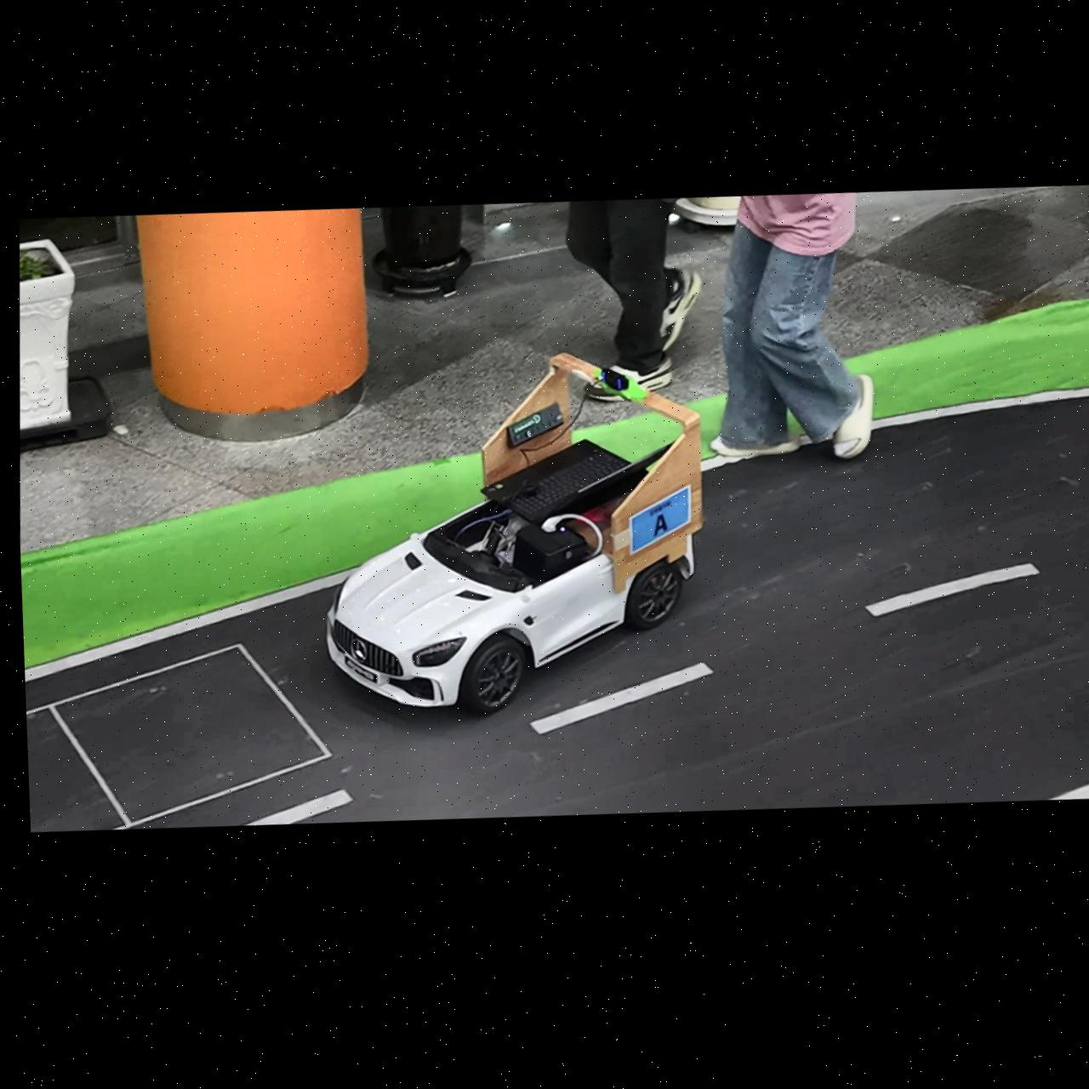broken_line: (530, 662, 712, 733), (865, 563, 1039, 616), (245, 789, 352, 825)
